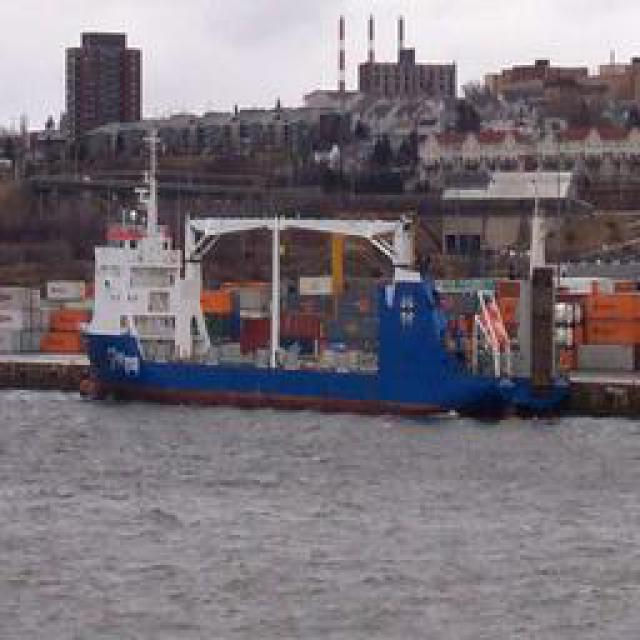Ship: (75, 212, 578, 422)
